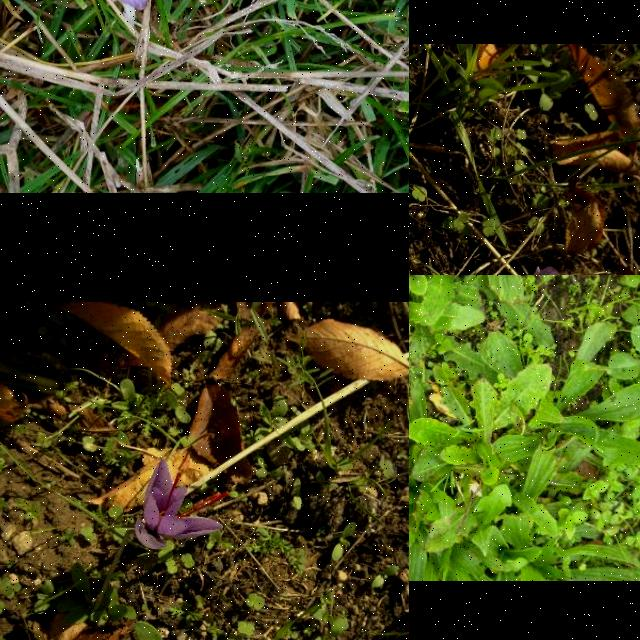flower: (134, 460, 230, 550), (117, 0, 151, 10)
